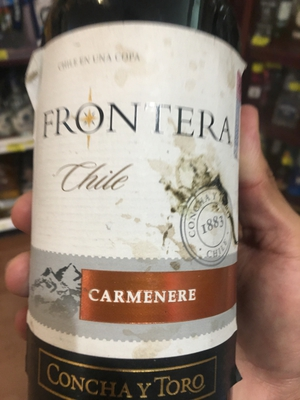frontera carmenere: (22, 12, 255, 393)
